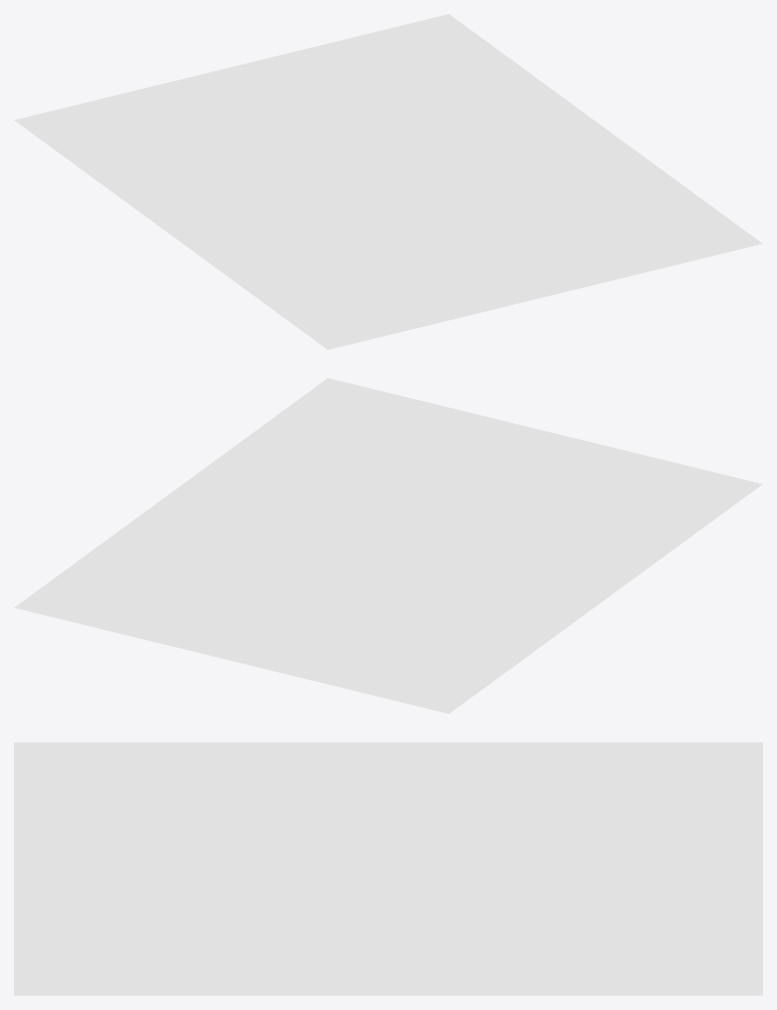
The model's file is widewonder6.glb.
3 views of the same model, one above another, from view 1: azimuth 30°, elevation 25°; view 2: azimuth 150°, elevation 25°; view 3: azimuth 270°, elevation 25° (orthographic). The views are drawn at different scales.
Visible parts, largest first — view 1: Plane; view 2: Plane; view 3: Plane.
Boxes of the visible parts, left/top/right/bottom form: Plane: left=14, top=14, right=762, bottom=349; Plane: left=14, top=378, right=762, bottom=713; Plane: left=14, top=742, right=762, bottom=995.
Bounding box in the file's own units: 0.4 × 0 × 0.5.
1 material, 1 textured.
